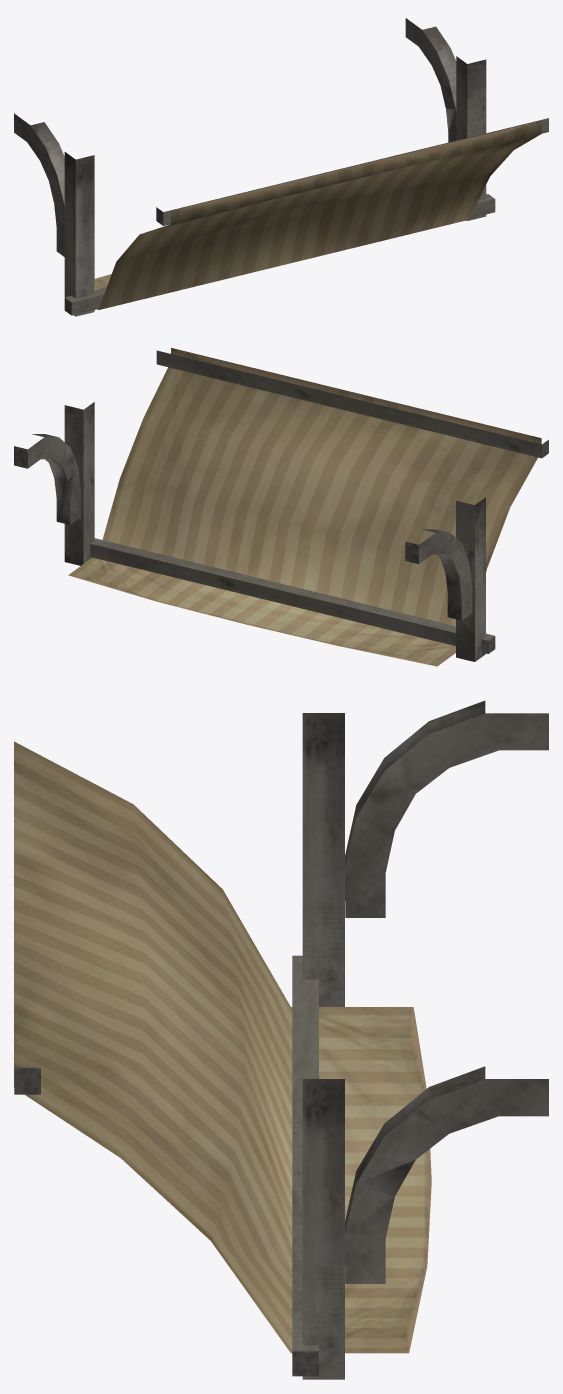
File: awning_2x5_2.glb
3 renders of one model, top to bottom at view 1: azimuth 30°, elevation 25°; view 2: azimuth 150°, elevation 25°; view 3: azimuth 270°, elevation 25°, orthographic. The views are drawn at different scales.
Bounding box in the file's own units: 67.91 × 24.06 × 38.79.
Materials: 2 (2 with a texture image).
